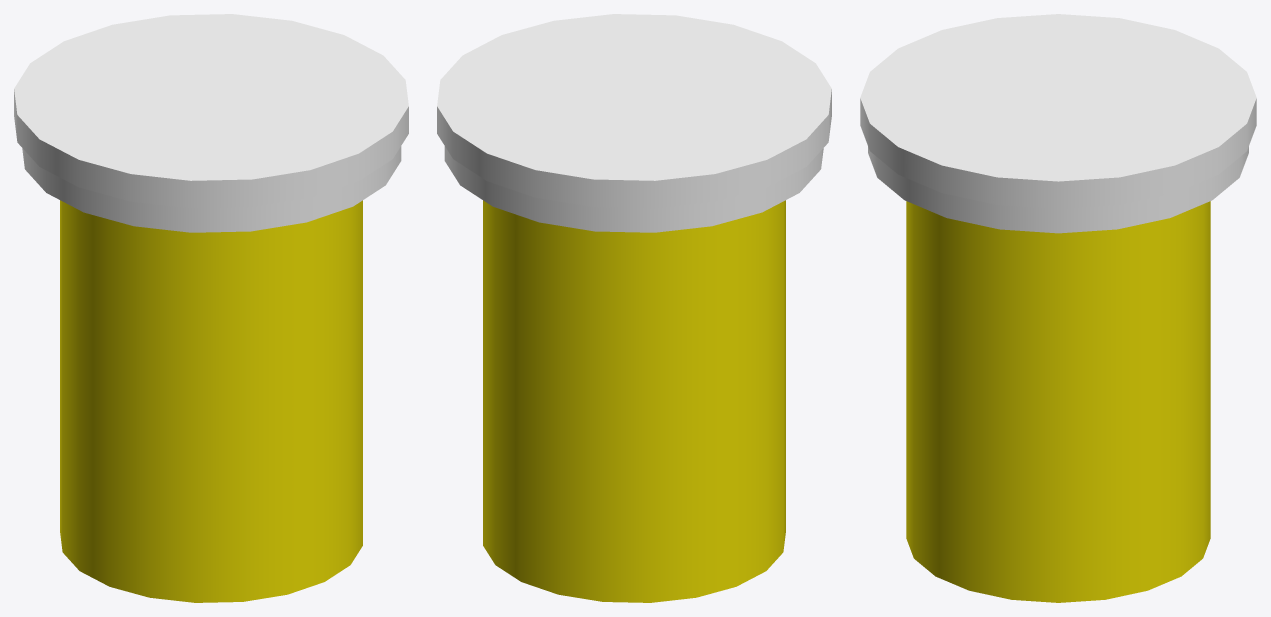
File: Blockout_PillBottle_02.fbx
3 renders of one model, left to right at view 1: azimuth 30°, elevation 25°; view 2: azimuth 150°, elevation 25°; view 3: azimuth 270°, elevation 25°, orthographic.
Visible parts, largest first — view 1: pCylinder1; view 2: pCylinder1; view 3: pCylinder1.
Part boxes in pixels (left/top/right/bottom): pCylinder1: left=14, top=14, right=408, bottom=602; pCylinder1: left=437, top=14, right=831, bottom=602; pCylinder1: left=860, top=14, right=1256, bottom=602.
Size of the model in its own units: 1.3 by 1.6 by 1.3.
